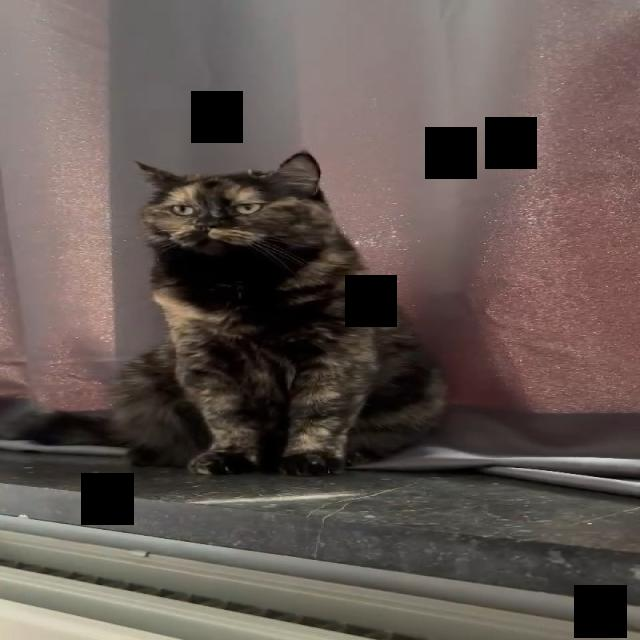authorized: (107, 150, 449, 476)
